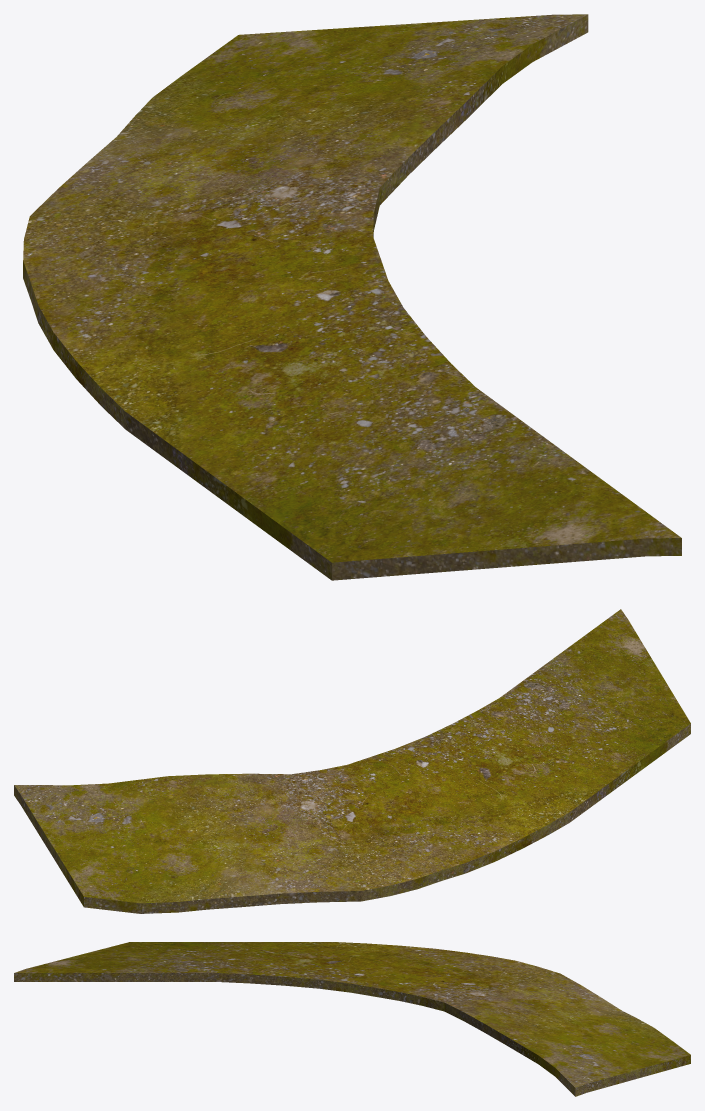
File: CliffHill2.obj
3 views of the same model, one above another, from view 1: azimuth 30°, elevation 25°; view 2: azimuth 150°, elevation 25°; view 3: azimuth 270°, elevation 25° (orthographic). The views are drawn at different scales.
Parts seen in each view (by area): view 1: Background; view 2: Background; view 3: Background.
Boxes of the visible parts, <box> form: Background: <box>23,14,681,580</box>; Background: <box>14,609,690,913</box>; Background: <box>14,942,690,1096</box>.
Size of the model in its own units: 1.02 by 0.1162 by 1.7.
